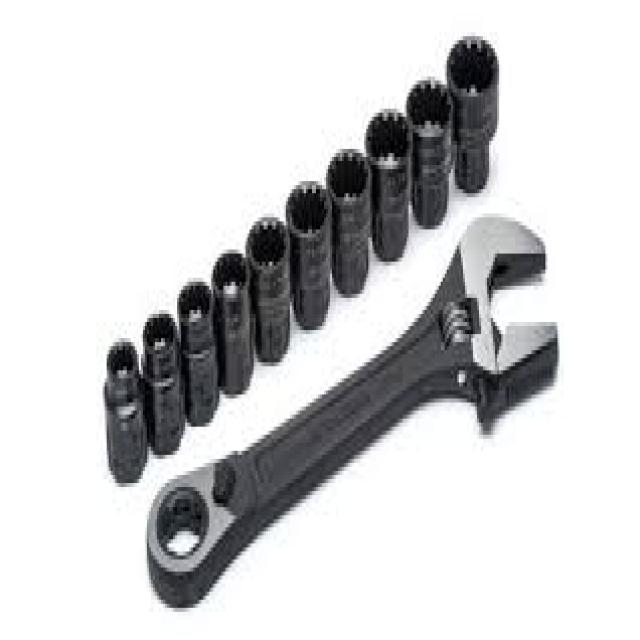wrench: (279, 201, 640, 446)
